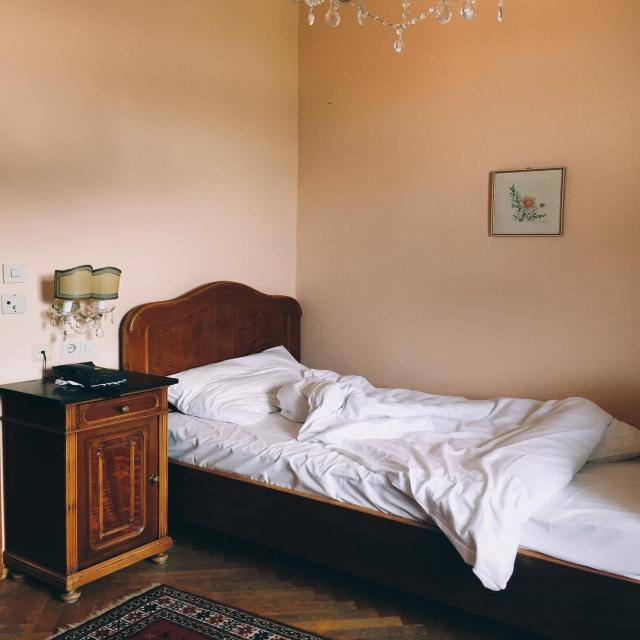bed: (200, 326, 640, 594)
